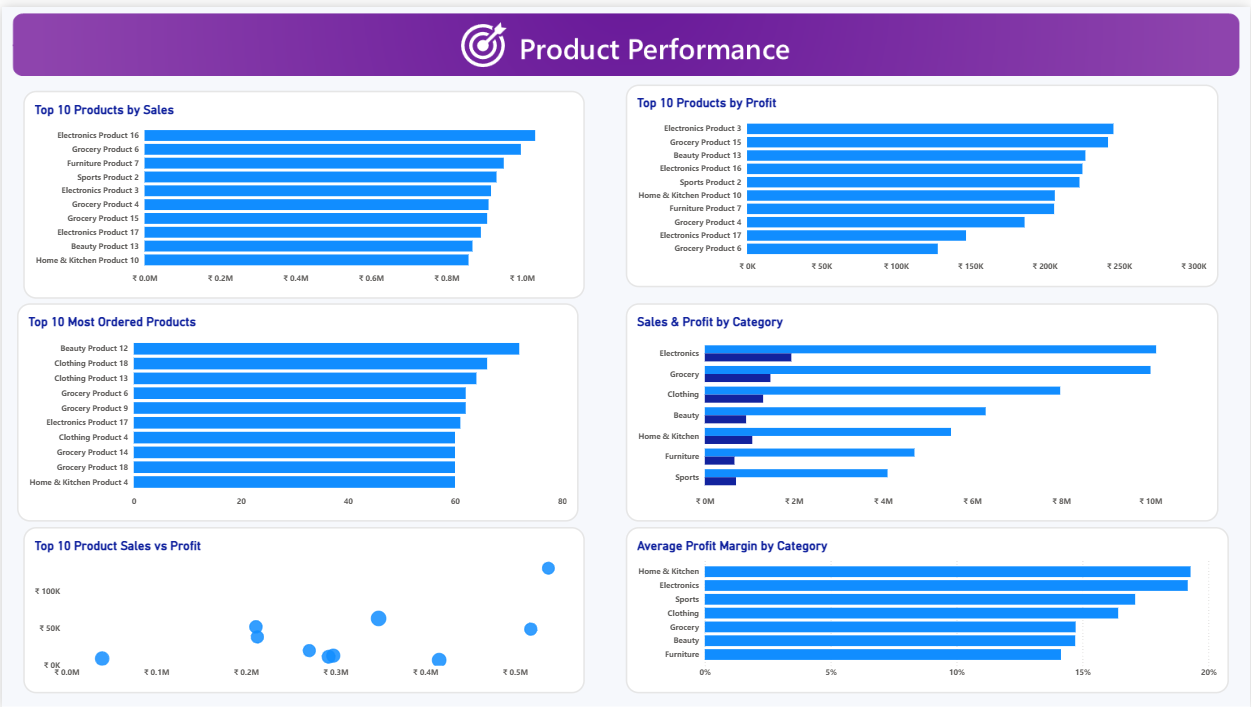

Layout of this report page (visuals, bound fields, positions):
{"tool":"powerbi","page":{"name":"Product Performance","canvas":[1920,1080],"ordinal":2},"visuals":[{"type":"textbox","title":"Product Performance","box":[24,24,1872,96],"z":0},{"type":"barChart","title":"Top 10 Products by Sales","fields":{"Category":["Retail_Sales_Master.Product_Name"],"Y":["📊 Measures.Total Sales"]},"box":[24,120,864,336],"z":1000},{"type":"barChart","title":"Top 10 Products by Profit","fields":{"Category":["Retail_Sales_Master.Product_Name"],"Y":["📊 Measures.Total Profit"]},"box":[960,120,912,312],"z":1001},{"type":"barChart","title":"Top 10 Most Ordered Products","fields":{"Category":["Retail_Sales_Master.Product_Name"],"Y":["📊 Measures.Total Orders"]},"box":[24,456,864,336],"z":1002},{"type":"scatterChart","title":"Top 10 Product Sales vs Profit","fields":{"X":["📊 Measures.Total Sales"],"Y":["📊 Measures.Total Profit"],"Size":["📊 Measures.Total Orders"],"Category":["Retail_Sales_Master.Product_Name"]},"box":[24,792,864,288],"z":1003},{"type":"clusteredBarChart","title":"Average Profit Margin by Category","fields":{"Category":["Retail_Sales_Master.Category"],"Y":["📊 Measures.Profit Margin %"]},"box":[960,792,912,288],"z":1004},{"type":"clusteredBarChart","title":"Sales & Profit by Category","fields":{"Category":["Retail_Sales_Master.Category"],"Y":["📊 Measures.Total Sales","📊 Measures.Total Profit"]},"box":[960,456,912,336],"z":1005}]}

Visuals, with their boxes in screenshot pixels (x1, y1, x2, y2), scaled from the page's 1920x1080 canvas onto the 1251x707 screenshot:
"Product Performance" textbox: 16,16,1235,79
"Top 10 Products by Sales" barChart: 16,79,579,299
"Top 10 Products by Profit" barChart: 626,79,1220,283
"Top 10 Most Ordered Products" barChart: 16,299,579,518
"Top 10 Product Sales vs Profit" scatterChart: 16,518,579,706
"Average Profit Margin by Category" clusteredBarChart: 626,518,1220,706
"Sales & Profit by Category" clusteredBarChart: 626,299,1220,518
